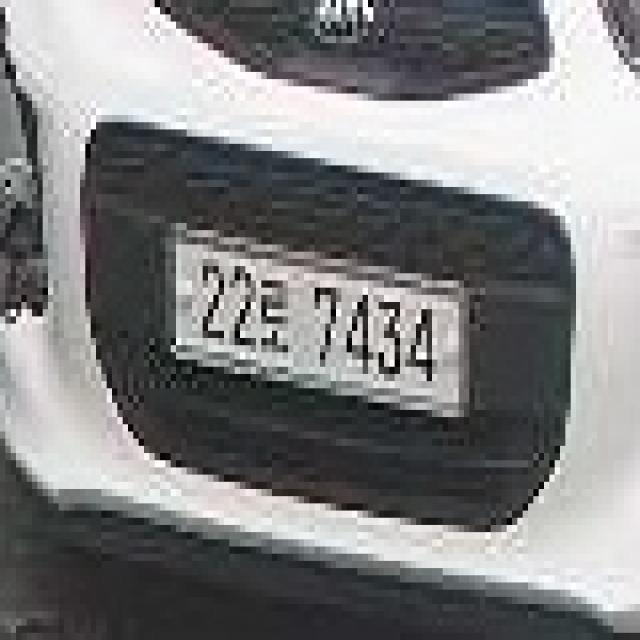2: (193, 252, 227, 347), (230, 261, 257, 352)
3: (378, 288, 407, 389)
4: (341, 289, 376, 378), (413, 296, 445, 387)
7: (306, 277, 346, 369)
license_plate: (174, 234, 463, 411)
lo: (261, 270, 296, 360)
